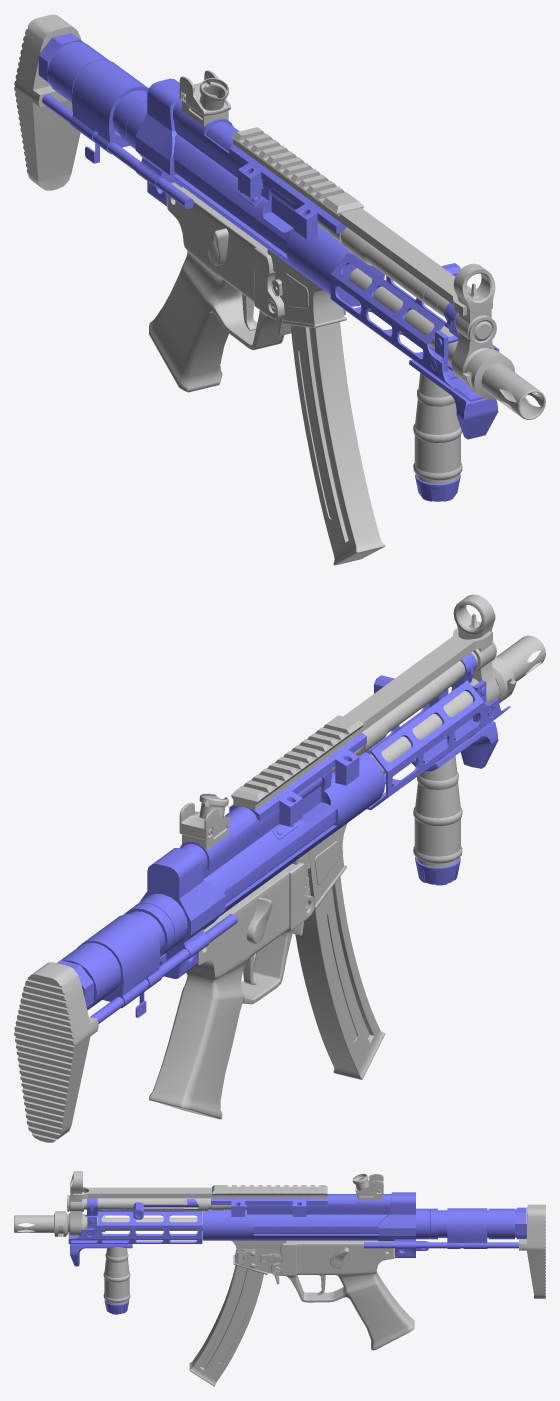
Rendered from Smg 3.fbx.
3 renders of one model, top to bottom at view 1: azimuth 30°, elevation 25°; view 2: azimuth 150°, elevation 25°; view 3: azimuth 270°, elevation 25°, orthographic. The views are drawn at different scales.
Parts seen in each view (by area): view 1: Trigger_HolderMP5, MagazineMP5, Main_BodyMP5, Top_Sight_SupportMP5, StockMP5, Barrel_Outer_CoverMP5, BarrelMP5, Front_stockMP5, Stock_Support_3MP5, Body_Back_SupportMP5, Front_barrel_HolderMP5, Stock_Support_2MP5 (+9 smaller); view 2: Trigger_HolderMP5, StockMP5, MagazineMP5, Main_BodyMP5, Top_Sight_SupportMP5, Body_Back_SupportMP5, Barrel_Outer_CoverMP5, Front_stockMP5, Stock_Support_2MP5, Stock_Support_3MP5, BarrelMP5, Top_Scope_supporterMP5 (+9 smaller); view 3: Trigger_HolderMP5, Main_BodyMP5, MagazineMP5, Top_Sight_SupportMP5, Barrel_Outer_CoverMP5, Body_Back_SupportMP5, Stock_Support_2MP5, StockMP5, BarrelMP5, Stock_Support_3MP5, Front_stockMP5, Barrel_PipeMP5 (+8 smaller).
Part boxes in pixels (left/top/right/bottom): Trigger_HolderMP5: left=149, top=182, right=284, bottom=392; MagazineMP5: left=290, top=322, right=385, bottom=565; Main_BodyMP5: left=171, top=99, right=384, bottom=306; Top_Sight_SupportMP5: left=231, top=127, right=492, bottom=315; StockMP5: left=14, top=14, right=81, bottom=190; Barrel_Outer_CoverMP5: left=330, top=252, right=499, bottom=401; BarrelMP5: left=348, top=268, right=545, bottom=419; Front_stockMP5: left=413, top=373, right=462, bottom=483; Stock_Support_3MP5: left=70, top=59, right=148, bottom=154; Body_Back_SupportMP5: left=135, top=78, right=182, bottom=206; Front_barrel_HolderMP5: left=443, top=263, right=496, bottom=382; Stock_Support_2MP5: left=47, top=42, right=147, bottom=149; Trigger_HolderMP5: left=149, top=862, right=314, bottom=1119; StockMP5: left=14, top=962, right=98, bottom=1142; MagazineMP5: left=295, top=876, right=385, bottom=1079; Main_BodyMP5: left=180, top=752, right=385, bottom=915; Top_Sight_SupportMP5: left=231, top=628, right=492, bottom=810; Body_Back_SupportMP5: left=140, top=848, right=225, bottom=978; Barrel_Outer_CoverMP5: left=365, top=680, right=510, bottom=809; Front_stockMP5: left=413, top=756, right=462, bottom=866; Stock_Support_2MP5: left=57, top=893, right=187, bottom=1010; Stock_Support_3MP5: left=77, top=914, right=162, bottom=1008; BarrelMP5: left=369, top=635, right=545, bottom=773; Top_Scope_supporterMP5: left=229, top=732, right=366, bottom=826; Trigger_HolderMP5: left=271, top=1240, right=414, bottom=1350; Main_BodyMP5: left=202, top=1193, right=391, bottom=1240; MagazineMP5: left=189, top=1265, right=263, bottom=1386; Top_Sight_SupportMP5: left=73, top=1185, right=327, bottom=1199; Barrel_Outer_CoverMP5: left=68, top=1209, right=202, bottom=1243; Body_Back_SupportMP5: left=378, top=1192, right=428, bottom=1257; Stock_Support_2MP5: left=416, top=1208, right=514, bottom=1239; StockMP5: left=519, top=1204, right=545, bottom=1298; BarrelMP5: left=14, top=1211, right=202, bottom=1236; Stock_Support_3MP5: left=447, top=1208, right=487, bottom=1248; Front_stockMP5: left=103, top=1247, right=130, bottom=1304; Barrel_PipeMP5: left=84, top=1198, right=246, bottom=1211.
Bounding box in the file's own units: 5 × 26.36 × 60.3.
